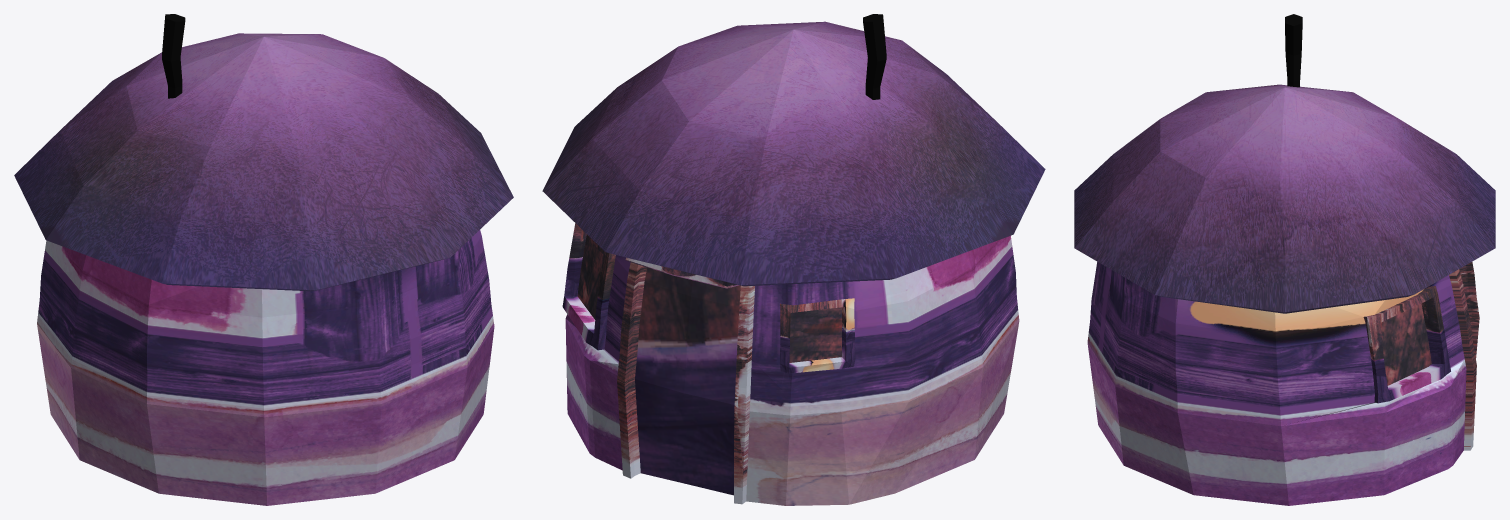
File: hut.gltf
The picture shows the model from 3 angles, left to right: view 1: azimuth 30°, elevation 25°; view 2: azimuth 150°, elevation 25°; view 3: azimuth 270°, elevation 25°; orthographic projection. The views are drawn at different scales.
Visible parts, largest first — view 1: hut; view 2: hut; view 3: hut.
Boxes of the visible parts, x1,y1,x2,y2 form: hut: (14, 14, 513, 505); hut: (542, 14, 1045, 505); hut: (1074, 14, 1495, 505).
Bounding box in the file's own units: 12.16 × 11.17 × 11.56.
Materials: 3 (3 with a texture image).
